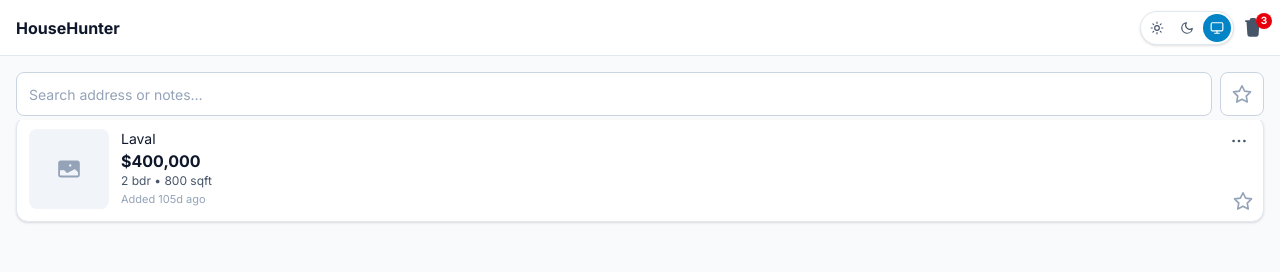
Test: /recent page › shows an error when the favorite write fails
Click the button titled "Add to favorites" at [1243, 201], box left=1223, top=181, right=1263, bottom=221
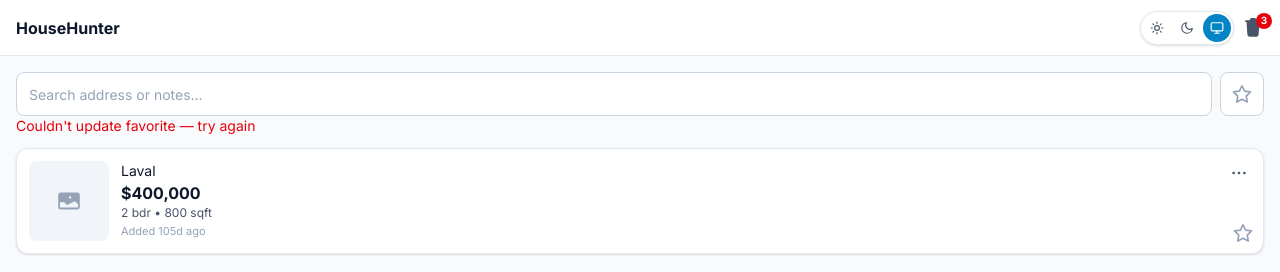
Check: the text "Couldn't update favorite — try again" is shown, box left=16, top=117, right=255, bottom=134
